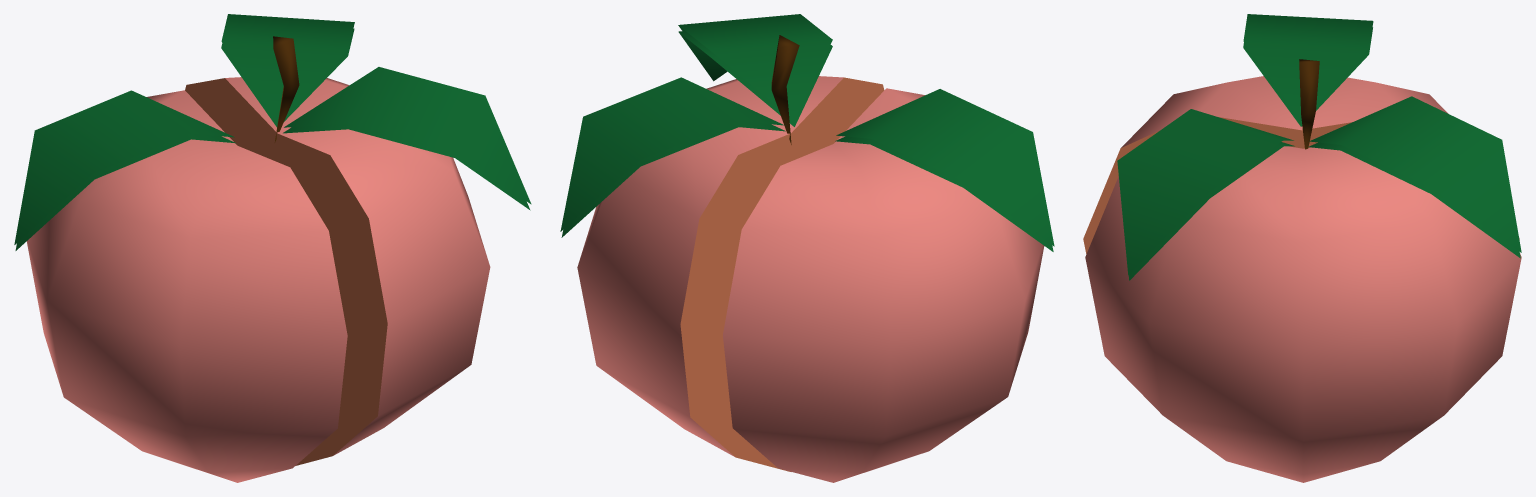
The model's file is lul.peach.fbx.
3 views of the same model, side by side, from view 1: azimuth 30°, elevation 25°; view 2: azimuth 150°, elevation 25°; view 3: azimuth 270°, elevation 25° (orthographic).
Visible parts, largest first — view 1: peach.002, peach.003; view 2: peach.002, peach.003; view 3: peach.003, peach.002.
Part boxes in pixels (x1,y1,x2,y2): peach.002: (14, 90, 347, 482); peach.003: (185, 14, 531, 465); peach.002: (723, 88, 1054, 482); peach.003: (560, 14, 884, 471); peach.003: (1085, 59, 1521, 482); peach.002: (1083, 14, 1519, 253).
Size of the model in its own units: 179 by 163 by 152.
